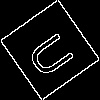U: (25, 25, 85, 81)
